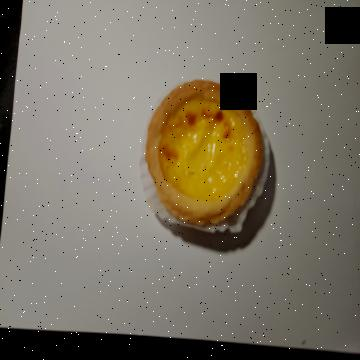EggTart: (147, 79, 263, 228)
